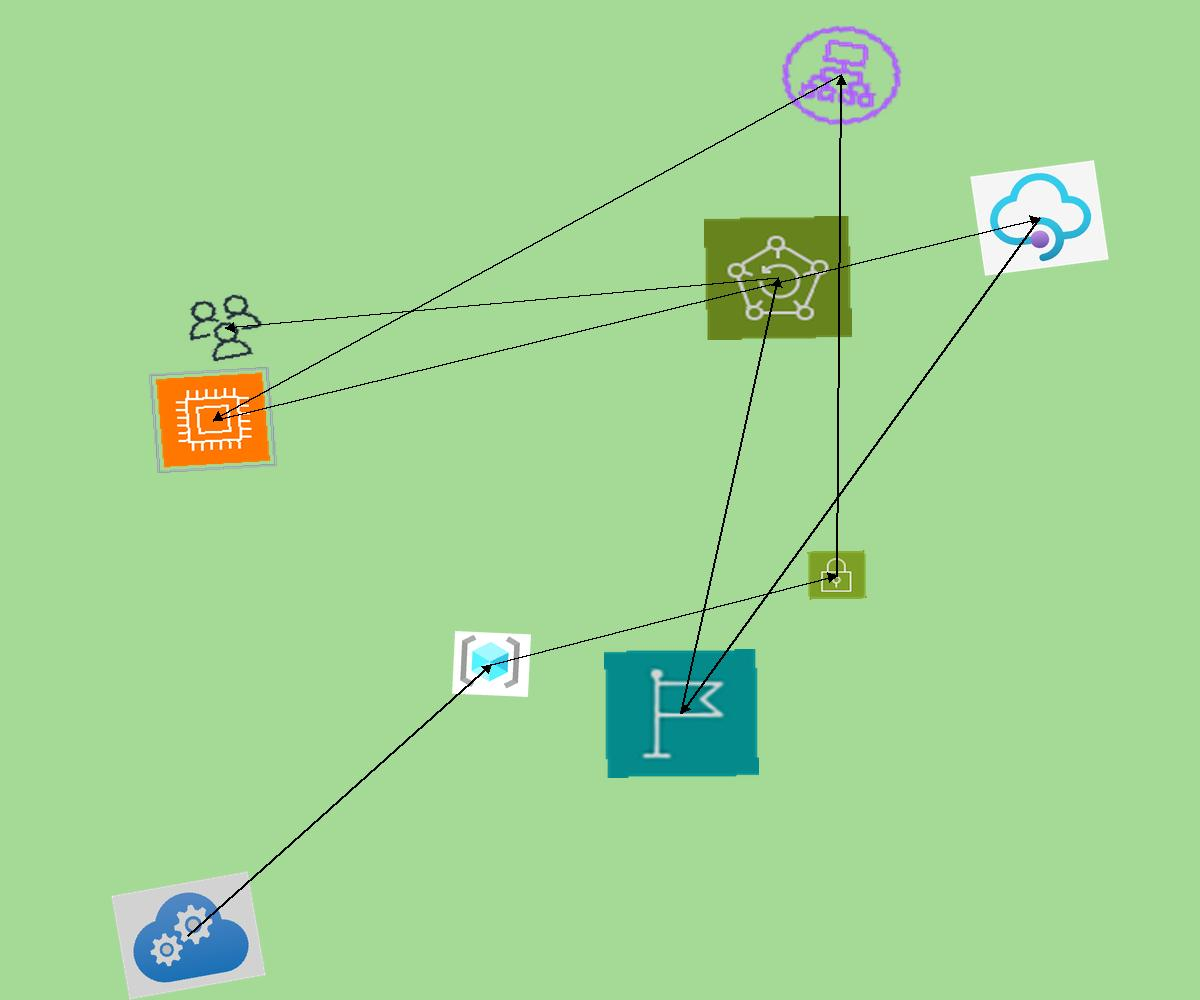AWS-Backup: (704, 216, 852, 340)
AWS-Category_Compute: (148, 366, 278, 474)
AWS-Public-subnet: (807, 550, 867, 600)
AWS-Region: (604, 649, 759, 778)
AWS-Res_Elastic-Load-Balancing_Application-Load-Balancer: (764, 11, 919, 140)
AWS-Res_Users: (177, 288, 273, 368)
Azure_api_gateway: (970, 160, 1109, 276)
Azure_cloud_services: (111, 871, 266, 1000)
Azure_resource_group: (452, 631, 531, 697)
